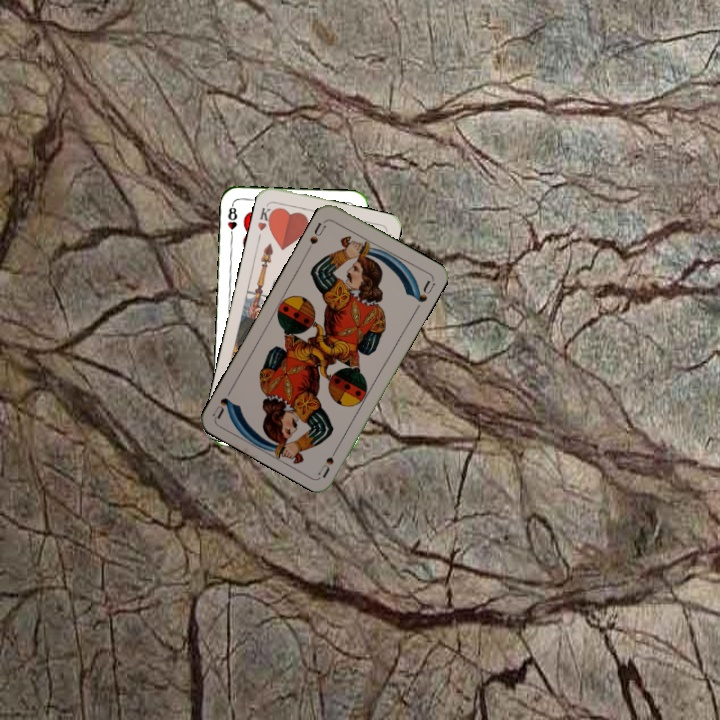H8: (224, 200, 239, 241)
HK: (253, 200, 277, 233)
SU: (314, 441, 342, 479), (303, 217, 329, 254)
